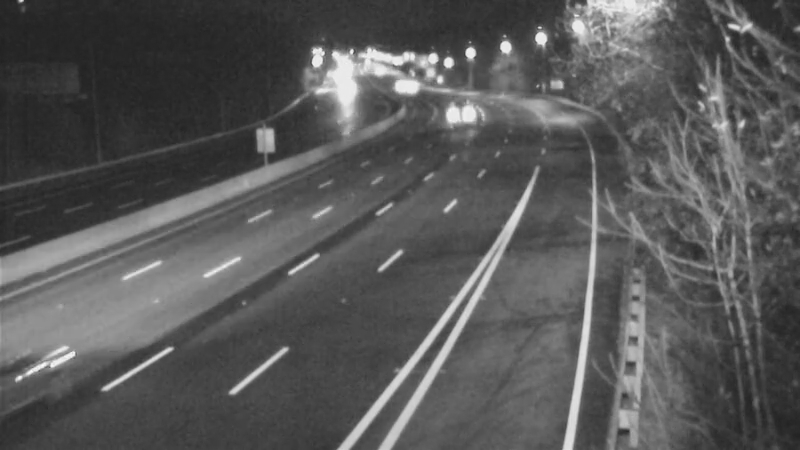vehicle: (371, 63, 421, 113), (439, 88, 489, 138)
